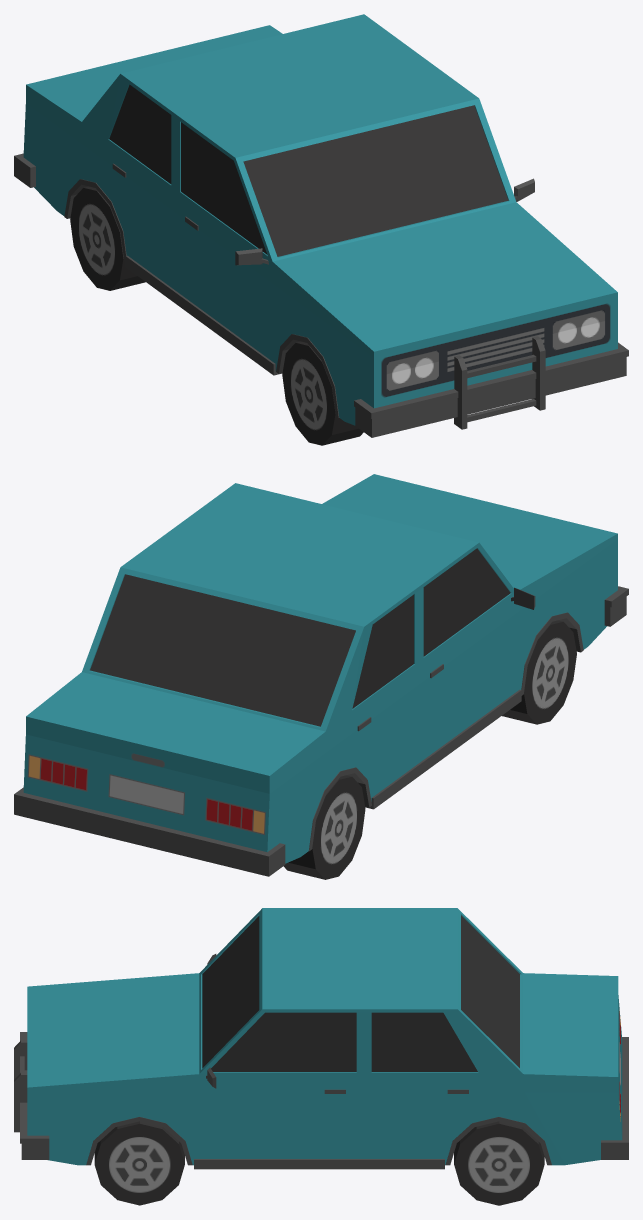
Rendered from Car_Blue.glb.
3 views of the same model, one above another, from view 1: azimuth 30°, elevation 25°; view 2: azimuth 150°, elevation 25°; view 3: azimuth 270°, elevation 25° (orthographic). The views are drawn at different scales.
Parts seen in each view (by area): view 1: Object_98.001; view 2: Object_98.001; view 3: Object_98.001.
Boxes of the visible parts, box(x1,y1,x2,y2) form: Object_98.001: box(14, 14, 628, 445); Object_98.001: box(14, 474, 628, 879); Object_98.001: box(14, 908, 628, 1205).
Size of the model in its own units: 3.06 by 2.27 by 6.43.
Materials: 1 (1 with a texture image).
